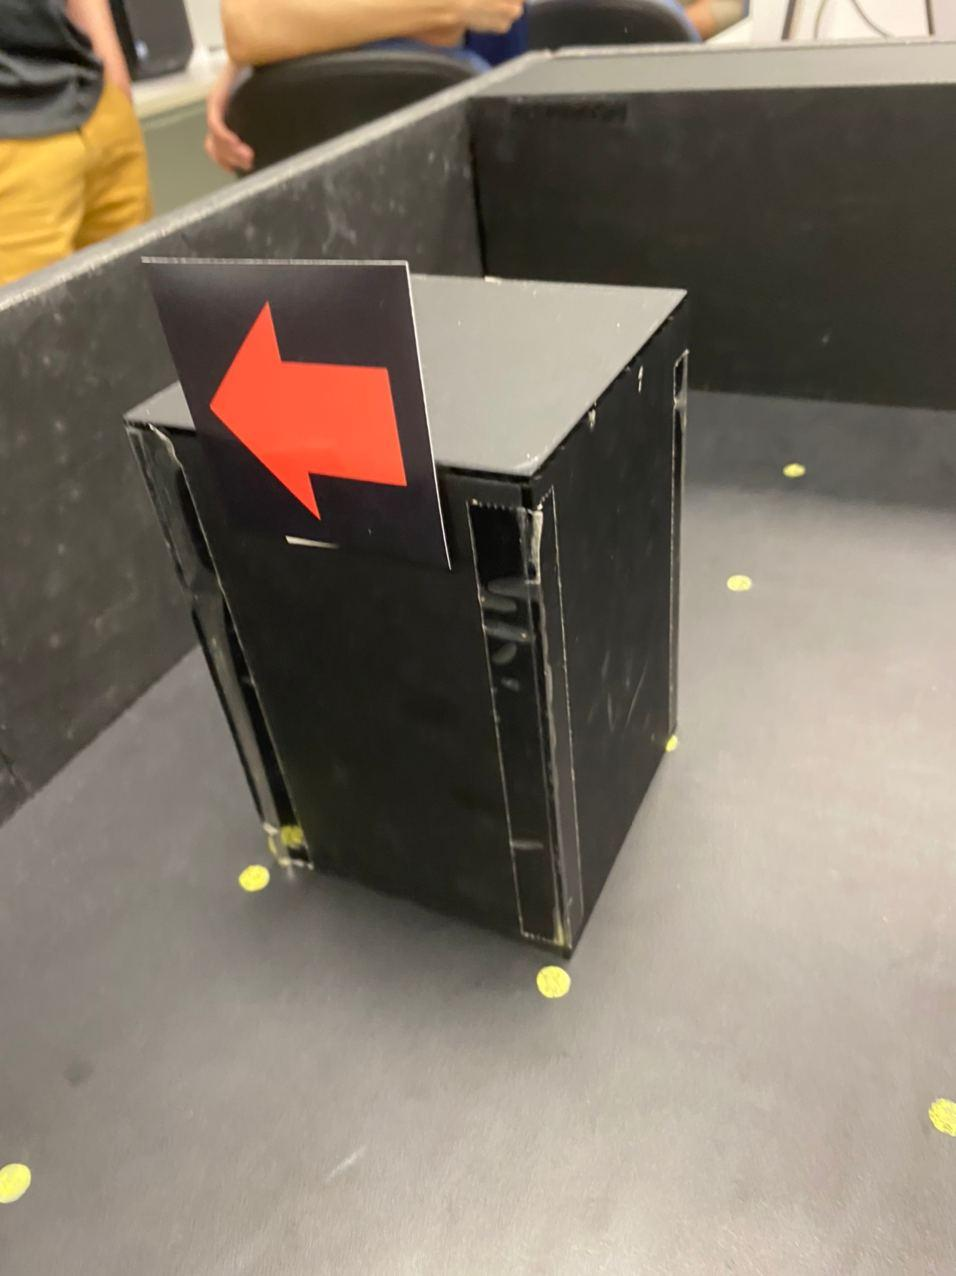left: (203, 292, 410, 529)
